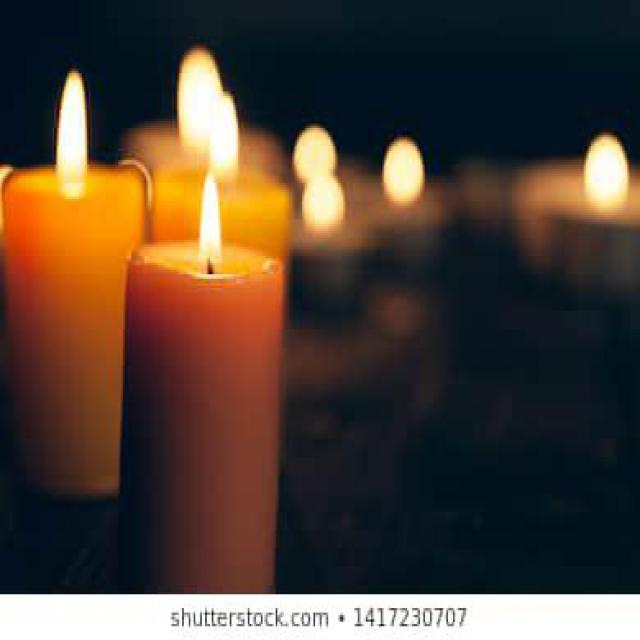Fire: (177, 49, 241, 177), (56, 70, 88, 194), (201, 174, 221, 274)
